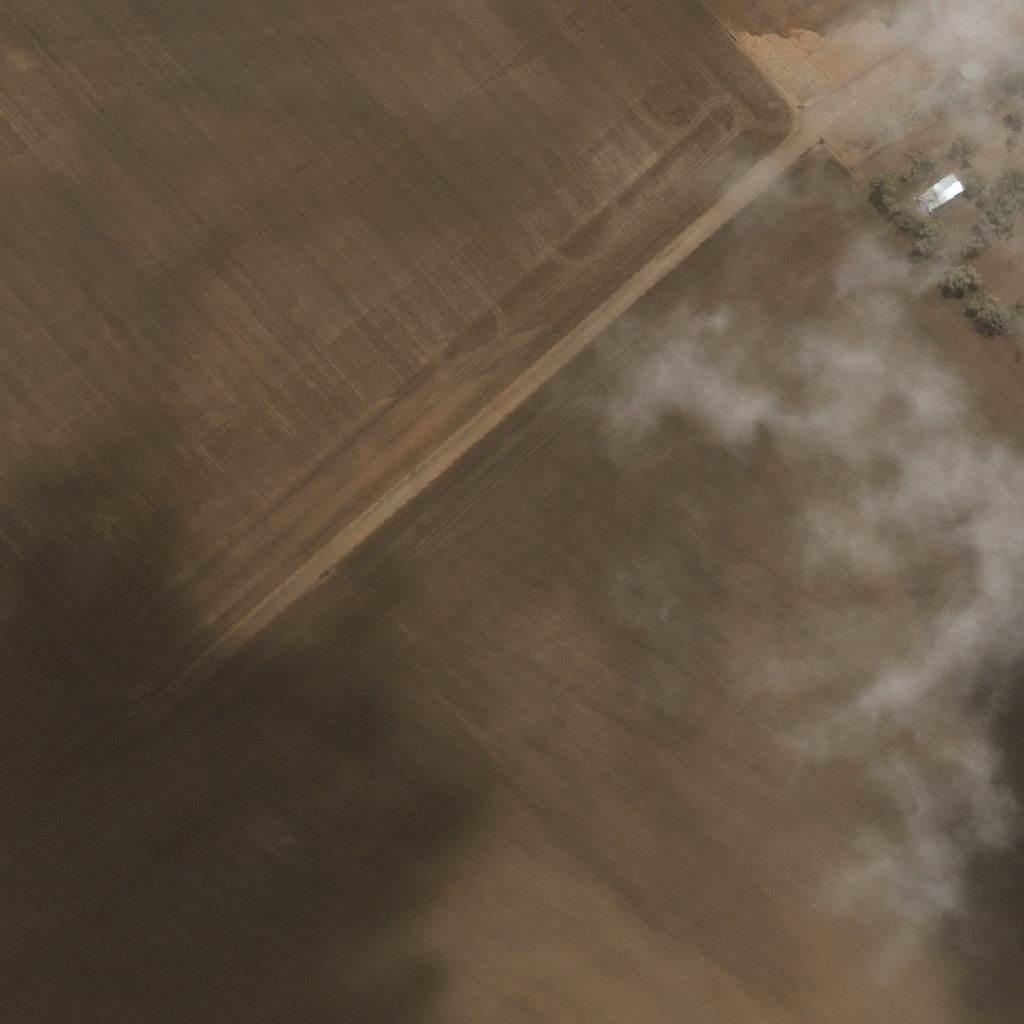0 no-damage: (911, 170, 966, 215), (958, 58, 982, 79)
